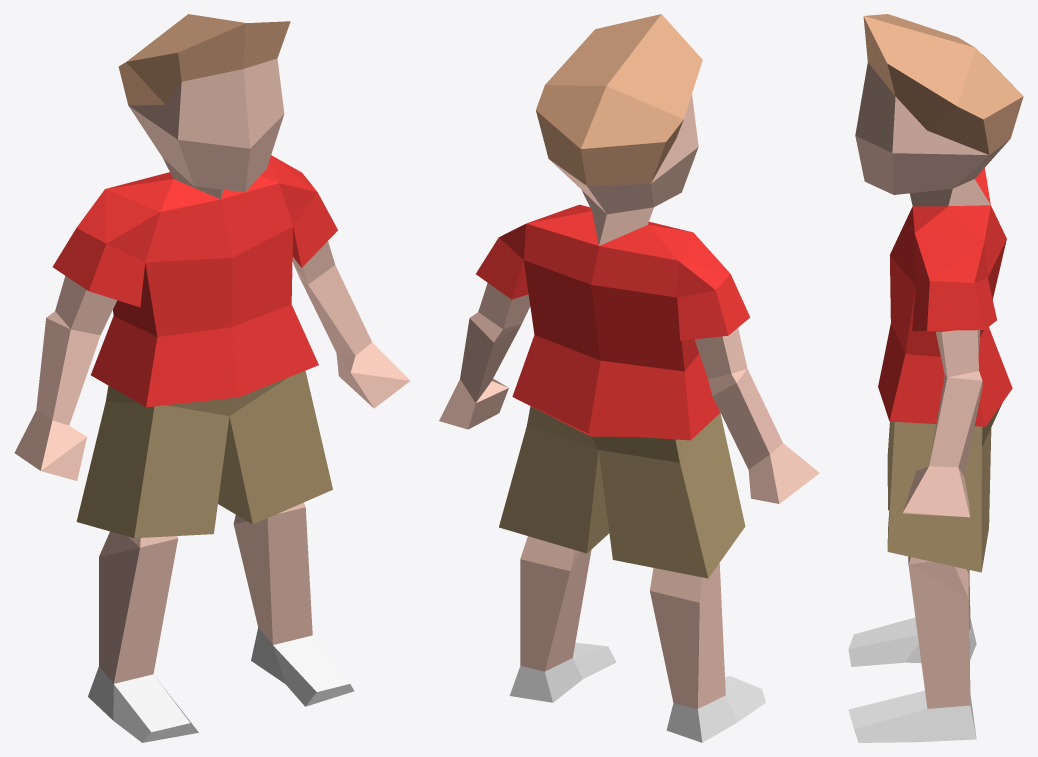
File: Yenisaçlıhali.fbx
3 renders of one model, left to right at view 1: azimuth 30°, elevation 25°; view 2: azimuth 150°, elevation 25°; view 3: azimuth 270°, elevation 25°, orthographic. The views are drawn at different scales.
Visible parts, largest first — view 1: Kid; view 2: Kid; view 3: Kid.
Part boxes in pixels (bbox=[...]): Kid: bbox=[14, 14, 410, 742]; Kid: bbox=[439, 14, 819, 742]; Kid: bbox=[848, 14, 1023, 742].
Size of the model in its own units: 64.52 by 115 by 27.09.
